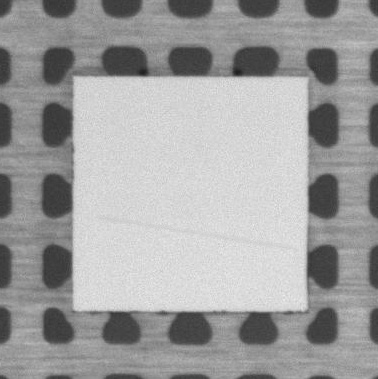DIE_CRACK: (96, 218, 296, 250)
